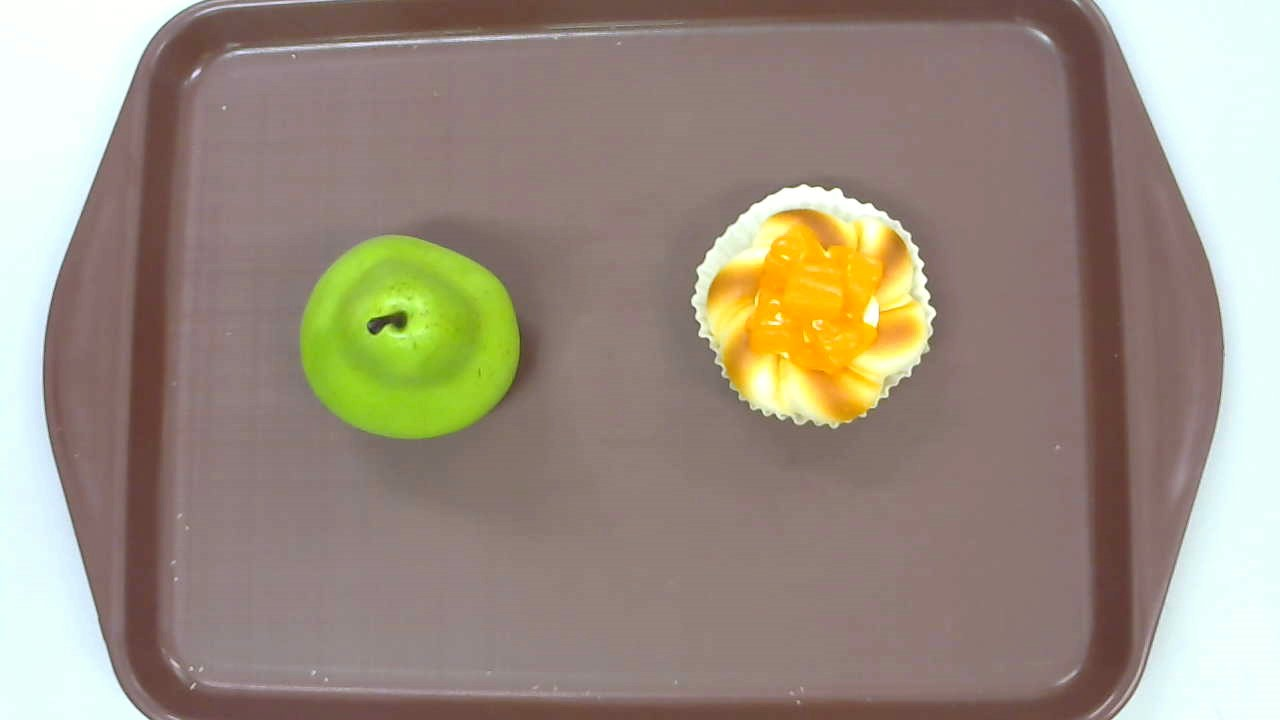green pear: (300, 234, 520, 439)
mango tart: (690, 184, 936, 430)
